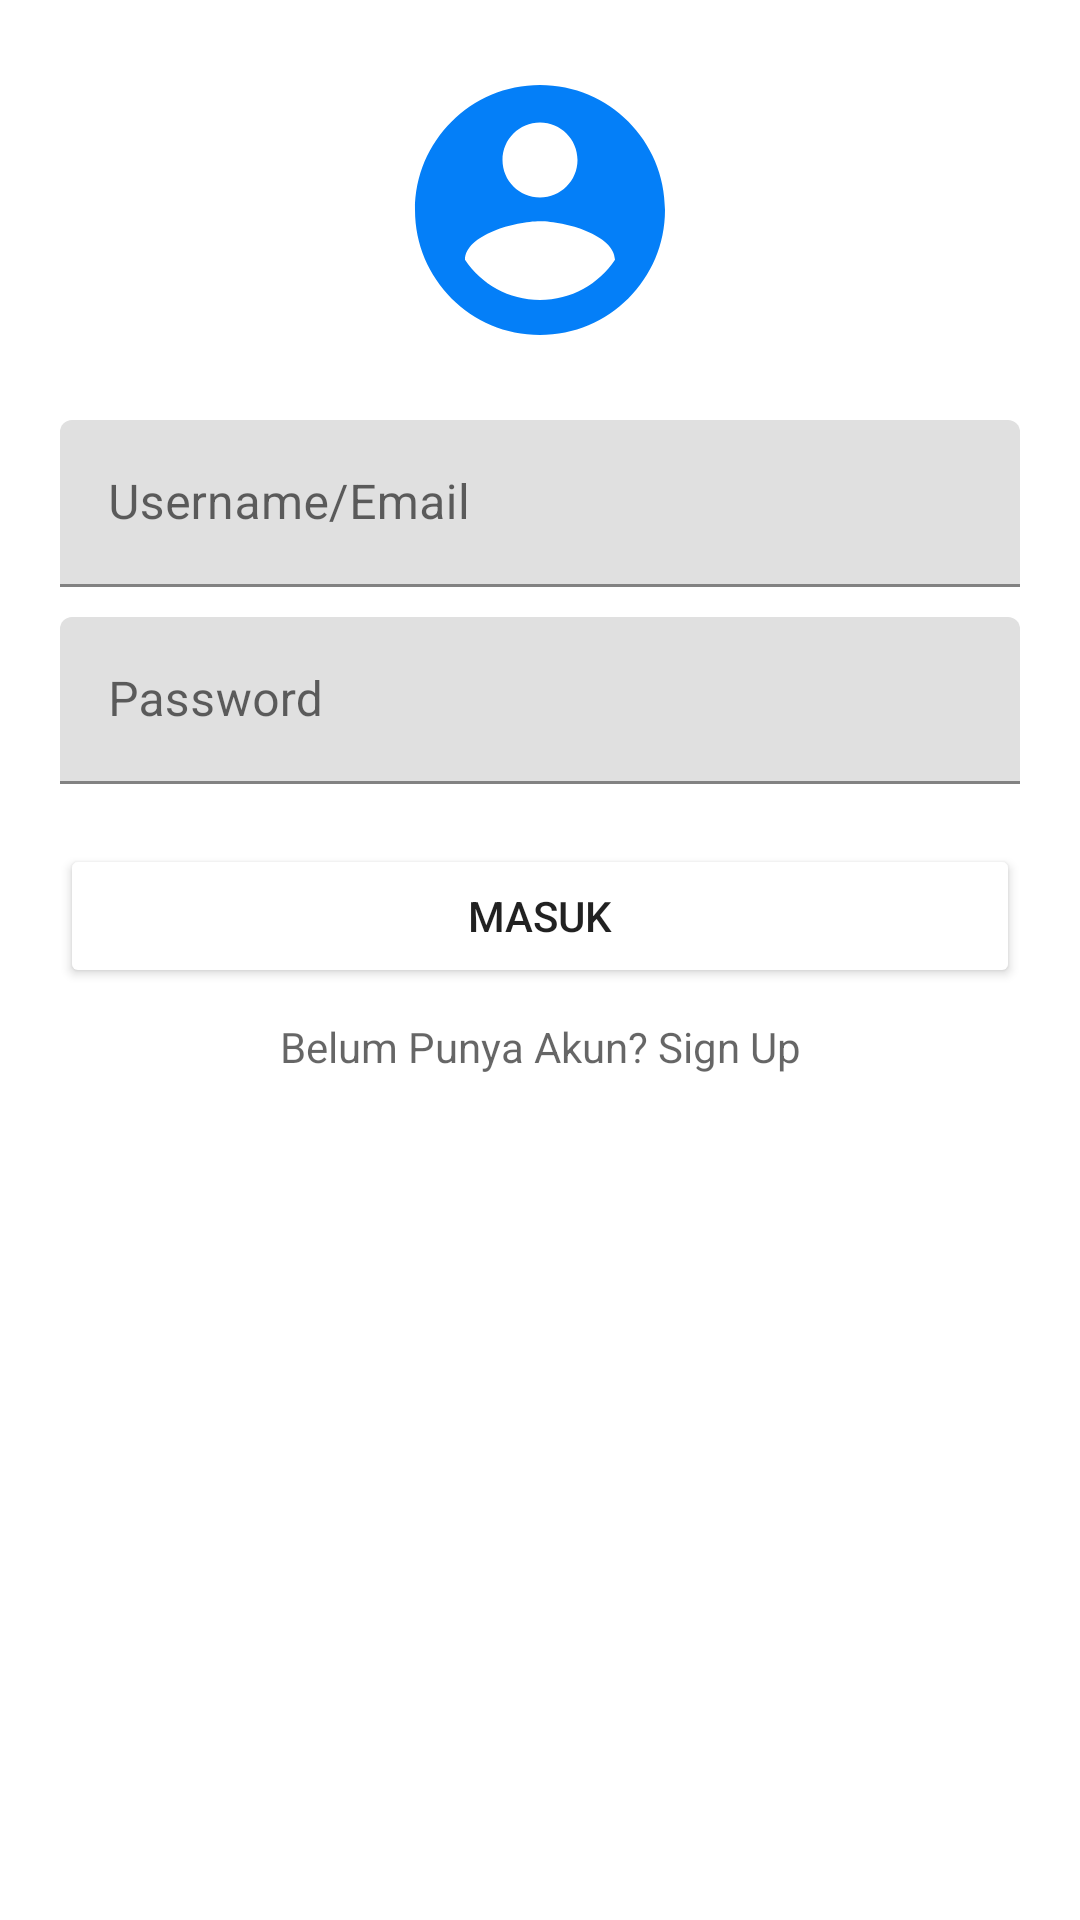

Named icons in this screenshot (1080 × 1920) and their bounding boxes, Rect(x1, y1, x2, y2):
account circle: Rect(415, 85, 665, 335)
